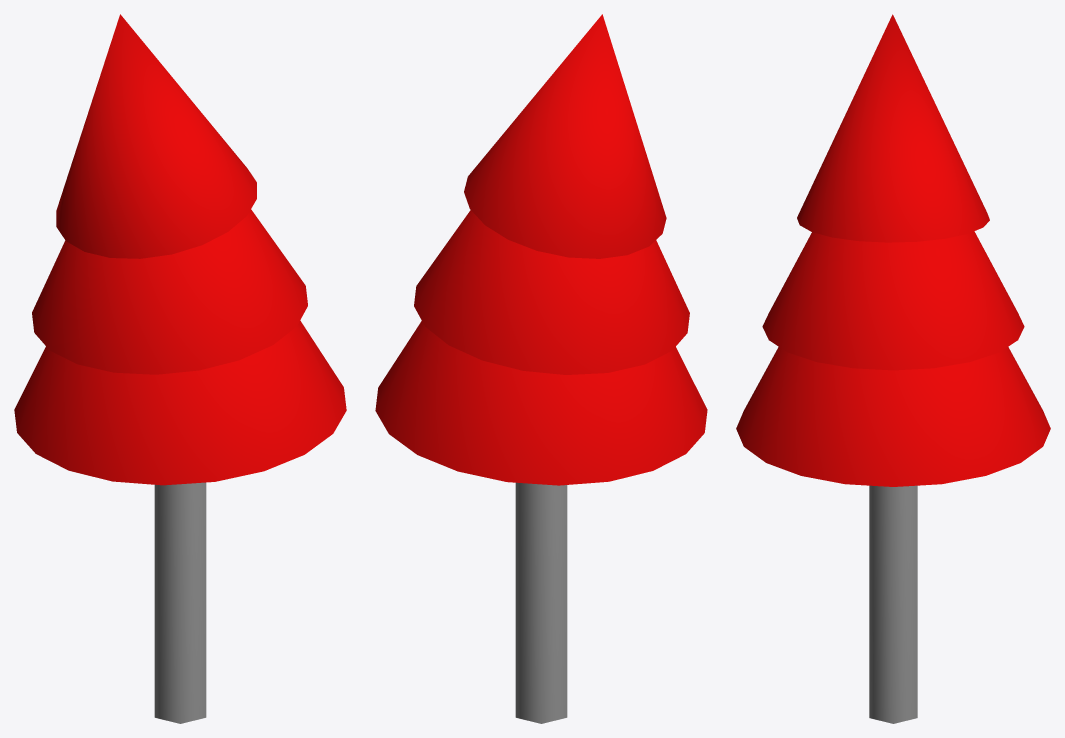
Rendered from SM_Tree.fbx.
3 views of the same model, side by side, from view 1: azimuth 30°, elevation 25°; view 2: azimuth 150°, elevation 25°; view 3: azimuth 270°, elevation 25° (orthographic). The views are drawn at different scales.
Parts seen in each view (by area): view 1: SM_TreeTop01, SM_TreeTop02, SM_TreeTop03, SM_TreeTrunk; view 2: SM_TreeTop01, SM_TreeTop02, SM_TreeTop03, SM_TreeTrunk; view 3: SM_TreeTop01, SM_TreeTop02, SM_TreeTop03, SM_TreeTrunk.
Boxes of the visible parts, bbox=[...] form: SM_TreeTop01: bbox=[14, 320, 346, 485]; SM_TreeTop02: bbox=[32, 209, 307, 374]; SM_TreeTop03: bbox=[56, 14, 256, 258]; SM_TreeTrunk: bbox=[154, 482, 206, 723]; SM_TreeTop01: bbox=[375, 321, 707, 485]; SM_TreeTop02: bbox=[414, 210, 689, 374]; SM_TreeTop03: bbox=[464, 14, 666, 258]; SM_TreeTrunk: bbox=[515, 482, 567, 723]; SM_TreeTop01: bbox=[736, 347, 1050, 486]; SM_TreeTop02: bbox=[762, 231, 1024, 370]; SM_TreeTop03: bbox=[797, 14, 989, 242]; SM_TreeTrunk: bbox=[869, 485, 917, 723].
Bounding box in the file's own units: 11.75 × 27.66 × 11.77.
